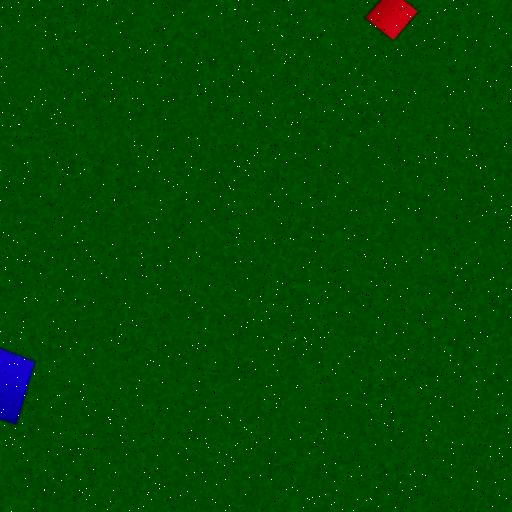BLUE_SQUARE: (0, 338, 36, 426)
RED_SQUARE: (363, 0, 419, 41)
